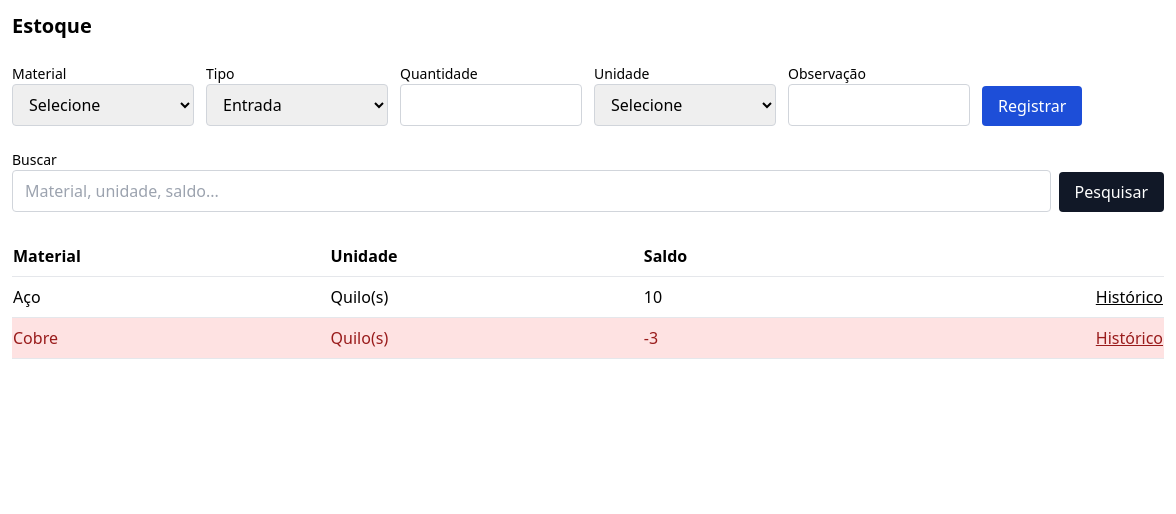
Test: EstoquePage › mostra histórico do material selecionado
The width and height of the screenshot is (1176, 514).
Click the button "Histórico" in the row of "Aço" at (1129, 297), box [1096,285,1163,309]
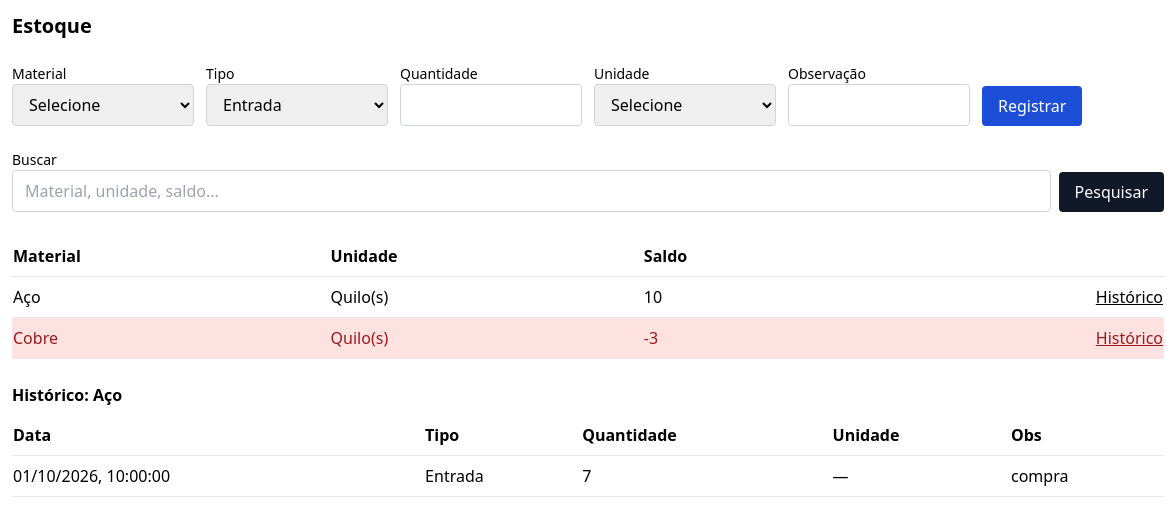
expect the text "compra" is shown: met, box [1010,456,1164,496]
